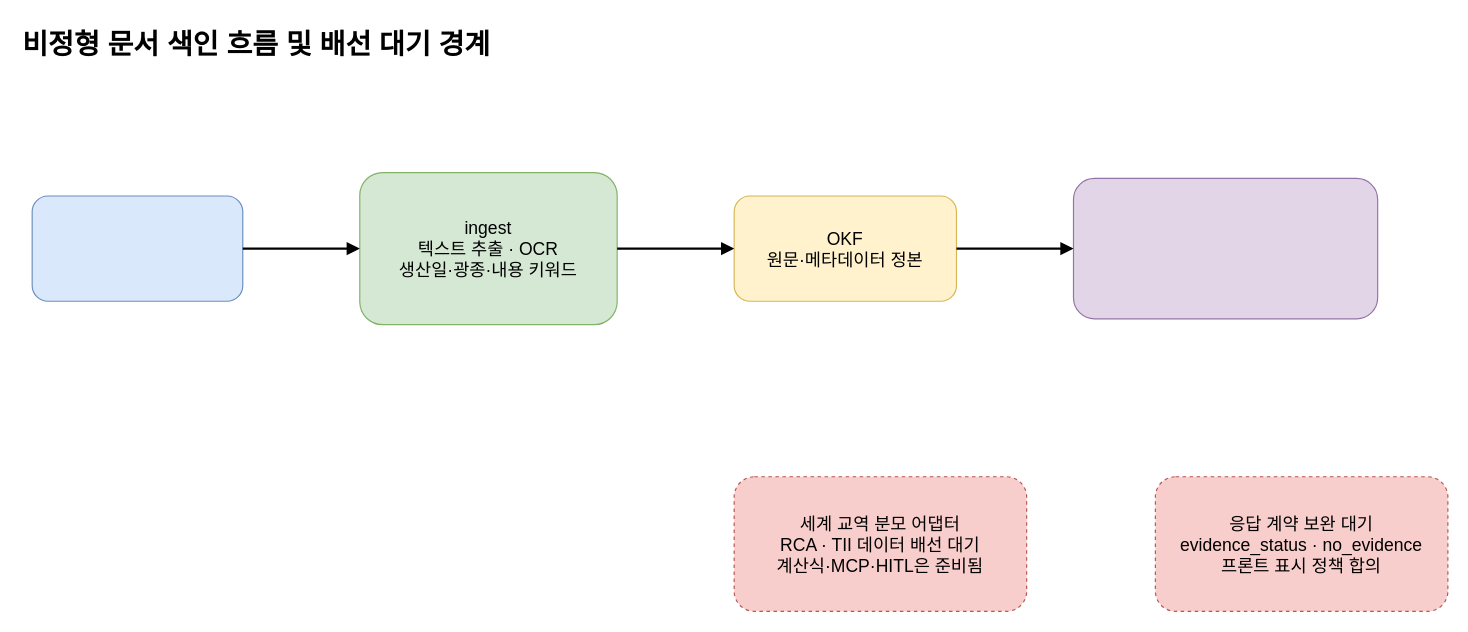
This 1468x632 diagram has some shape labels left out. The shapes that lost their labels are listed below. From the top down, each one's centre as x and y in pixels, then its label:
the point at 137,248: 원문 PDF · HWP · Excel
the point at 1225,248: PageIndex 트리 + pgvector 청크 조회 시 OKF 원문으로 검증
